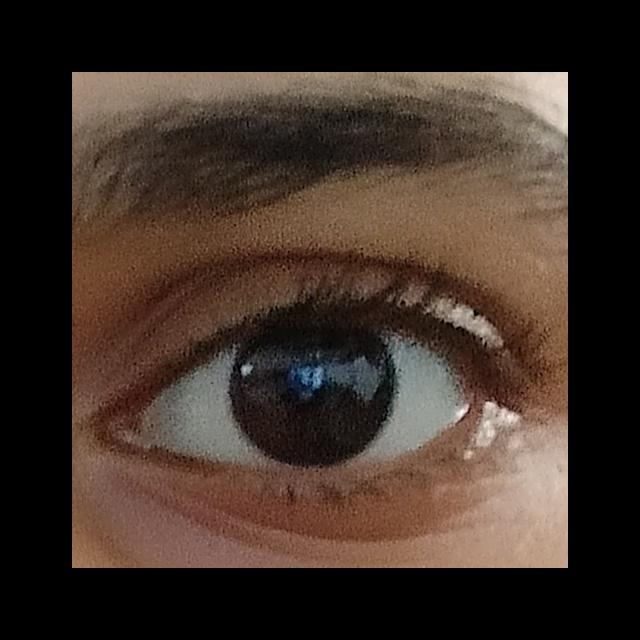eye: (144, 318, 473, 472)
iris: (230, 323, 396, 465)
